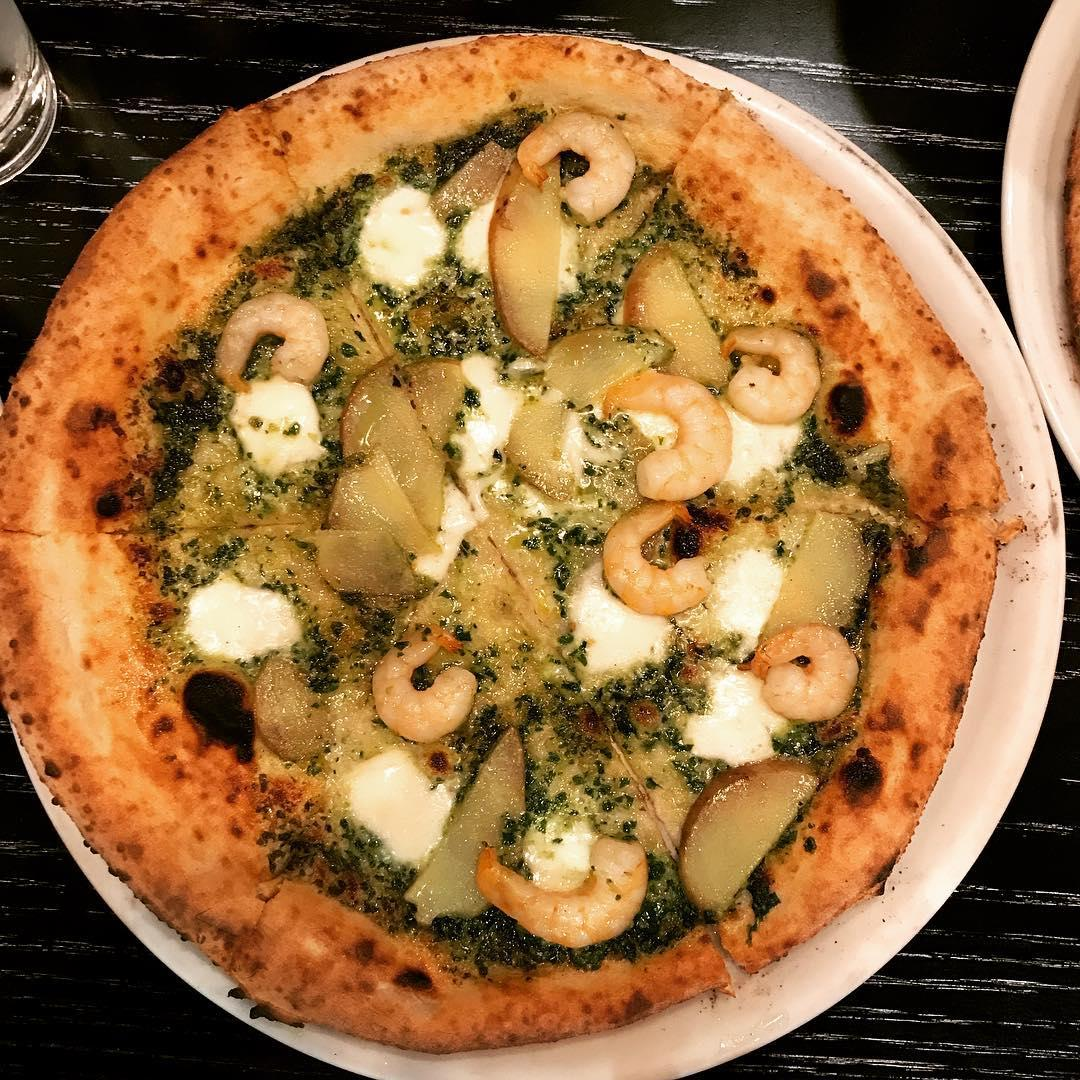Cheese: (348, 756, 449, 851), (187, 582, 306, 660), (572, 592, 670, 668), (697, 677, 781, 762), (236, 384, 318, 468), (365, 197, 444, 281), (456, 360, 516, 464), (726, 413, 803, 489), (713, 554, 785, 634), (520, 832, 594, 891)
Pizza: (0, 28, 997, 1058)
